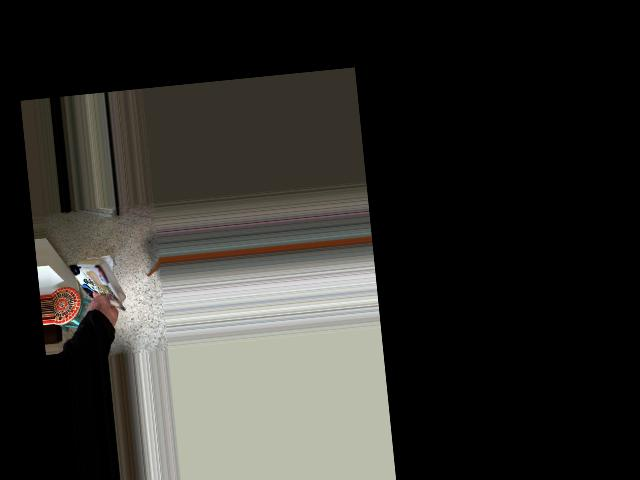cheese: (59, 252, 134, 329)
